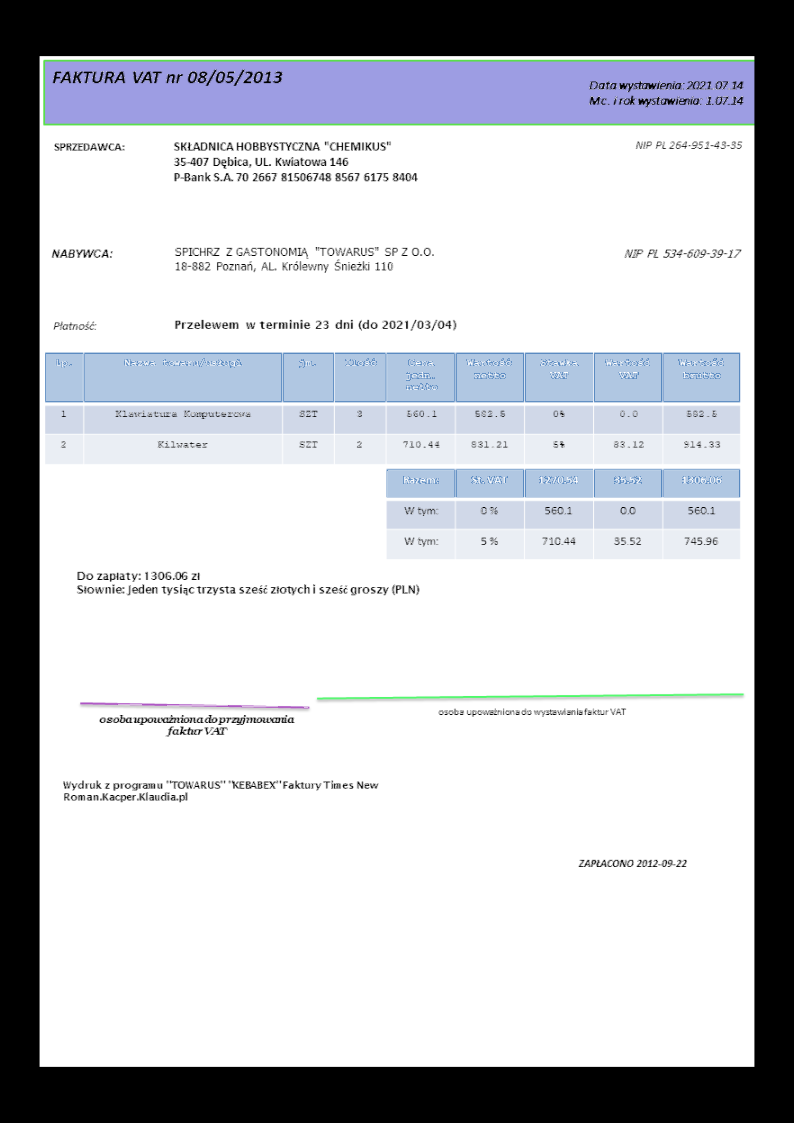Table: (42, 351, 741, 466), (385, 467, 742, 559)
TextBox: (171, 138, 420, 185), (75, 569, 421, 598), (60, 778, 380, 805), (172, 244, 438, 273), (98, 712, 296, 737), (586, 78, 745, 109), (50, 68, 284, 89), (173, 317, 458, 332), (437, 706, 626, 719), (576, 855, 688, 872), (623, 247, 742, 261), (634, 138, 743, 152), (51, 140, 127, 154), (50, 246, 114, 261), (51, 319, 97, 332)
